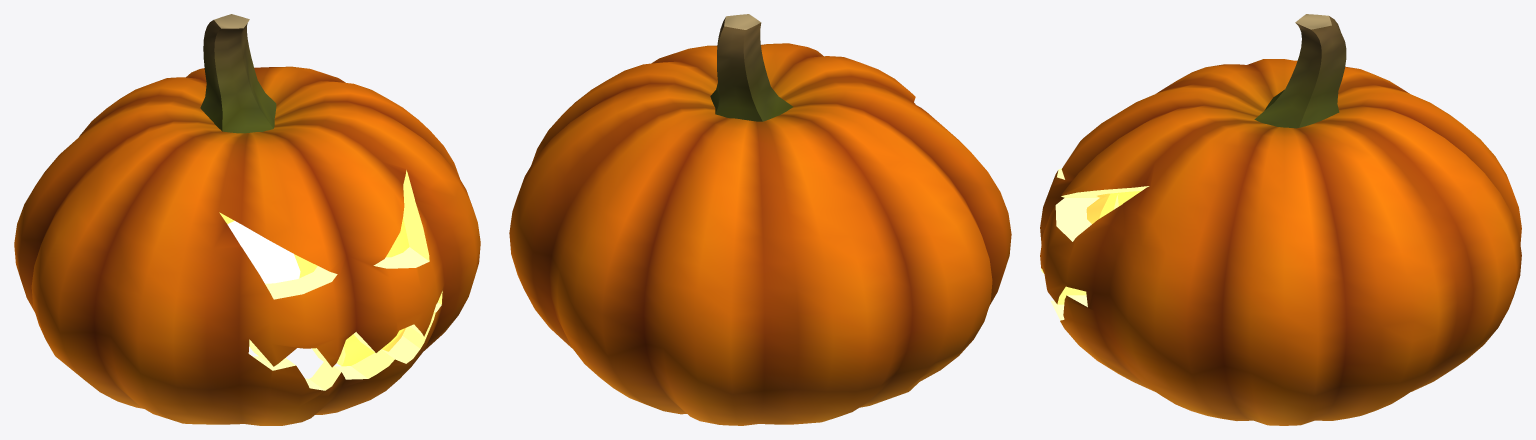
Rendered from gourdlight_pumpkin_head.glb.
3 renders of one model, left to right at view 1: azimuth 30°, elevation 25°; view 2: azimuth 150°, elevation 25°; view 3: azimuth 270°, elevation 25°, orthographic. The views are drawn at different scales.
Parts seen in each view (by area): view 1: pumpkin_head; view 2: pumpkin_head; view 3: pumpkin_head.
Part boxes in pixels (<box>): pumpkin_head: <box>14,14,480,425</box>; pumpkin_head: <box>509,14,1011,425</box>; pumpkin_head: <box>1040,14,1521,425</box>.
Bounding box in the file's own units: 0.6411 × 0.5274 × 0.6285.
